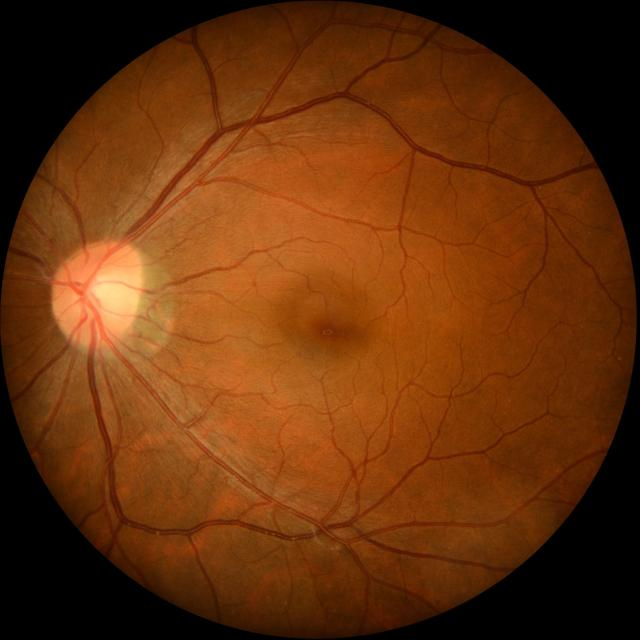OC: (81, 271, 122, 313)
OD: (52, 241, 144, 346)
